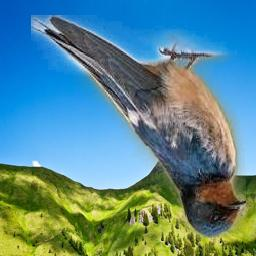Swallow: (32, 16, 247, 239)
